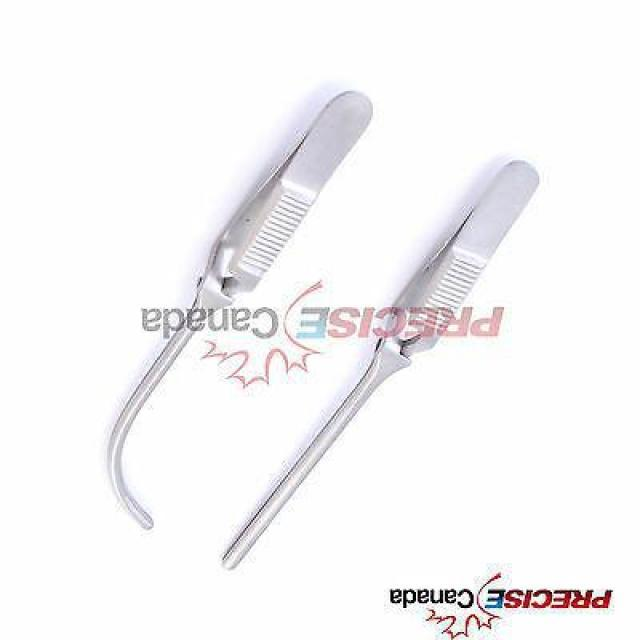Bulldog: (216, 157, 544, 576), (100, 88, 378, 536)
